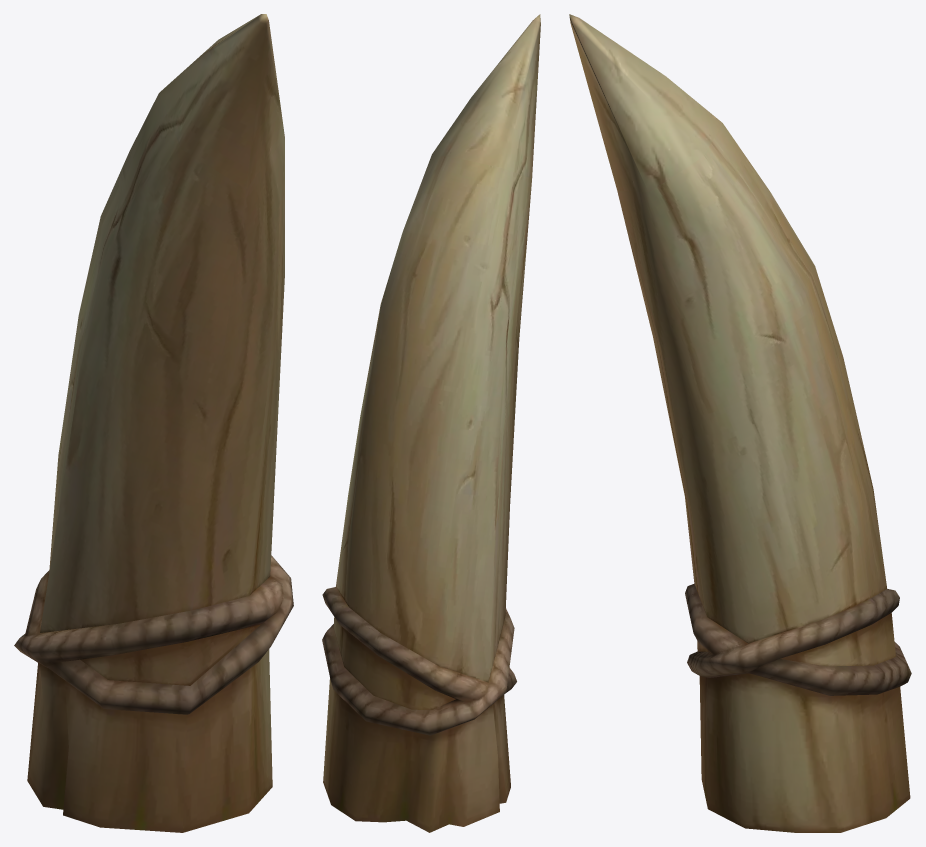
3 views of the same model, side by side, from view 1: azimuth 30°, elevation 25°; view 2: azimuth 150°, elevation 25°; view 3: azimuth 270°, elevation 25° (orthographic). The views are drawn at different scales.
Size of the model in its own units: 1.57 by 5.86 by 2.36.
Materials: 1 (1 with a texture image).
